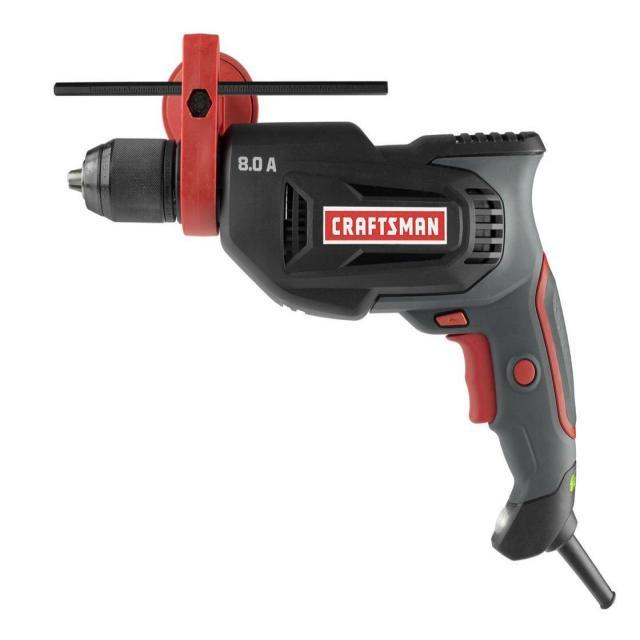drill: (54, 33, 616, 610)
